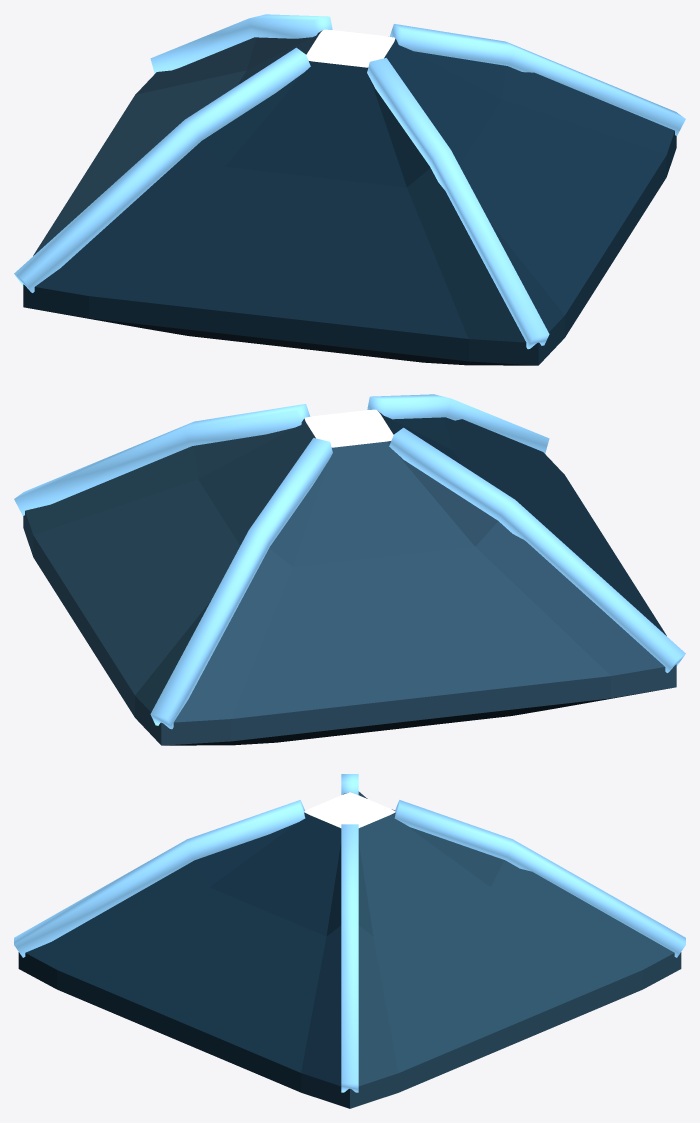
Rendered from tyrian10-51.glb.
3 renders of one model, top to bottom at view 1: azimuth 30°, elevation 25°; view 2: azimuth 150°, elevation 25°; view 3: azimuth 270°, elevation 25°, orthographic. The views are drawn at different scales.
Parts seen in each view (by area): view 1: tyrian10-51, tyrian10-51_ridges; view 2: tyrian10-51, tyrian10-51_ridges; view 3: tyrian10-51, tyrian10-51_ridges.
Boxes of the visible parts, left/top/right/bottom form: tyrian10-51: left=23, top=29, right=676, bottom=365; tyrian10-51_ridges: left=14, top=14, right=685, bottom=349; tyrian10-51: left=23, top=409, right=676, bottom=745; tyrian10-51_ridges: left=14, top=394, right=685, bottom=729; tyrian10-51: left=18, top=791, right=681, bottom=1108; tyrian10-51_ridges: left=14, top=774, right=685, bottom=1092.
Size of the model in its own units: 0.9309 by 0.323 by 0.9309.
